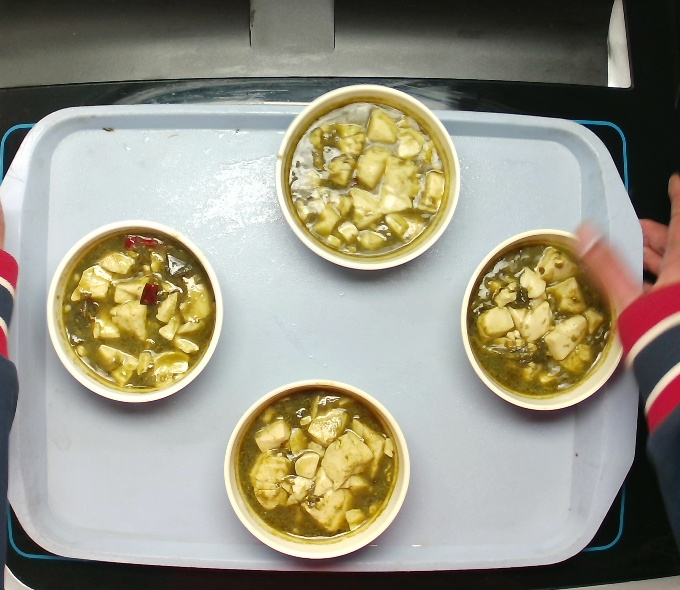wcq-SuanCaiDouFu: (280, 89, 456, 262), (231, 382, 401, 544), (56, 224, 217, 394), (464, 232, 618, 401)
